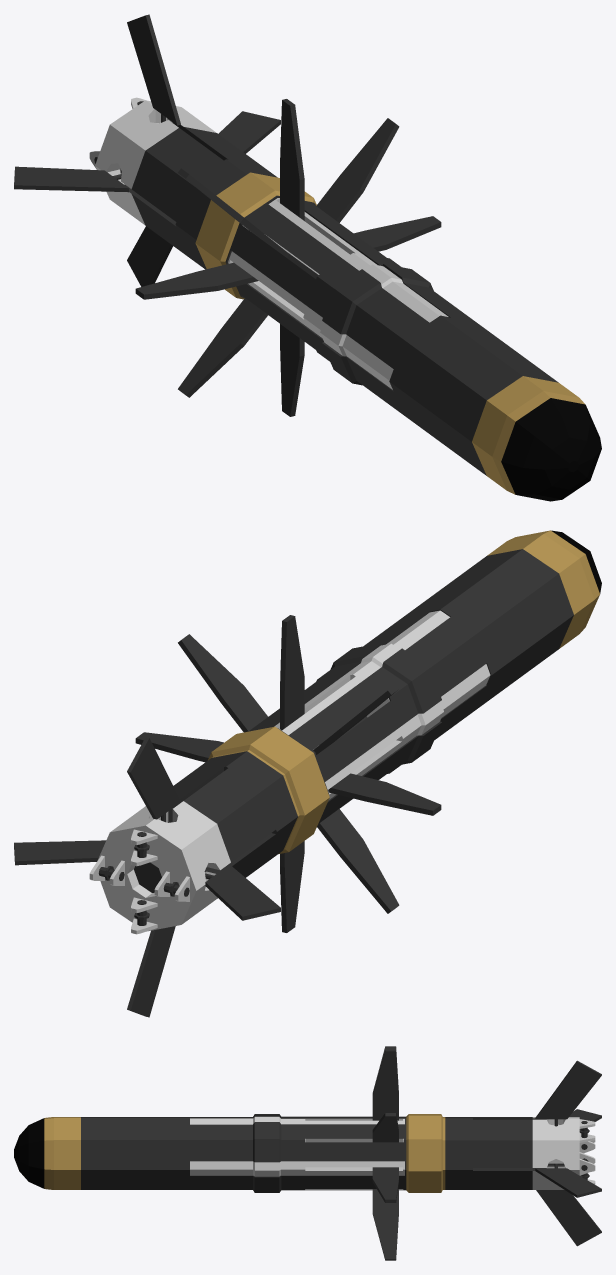
Rendered from rocket-missile-named-nodes.glb.
3 renders of one model, top to bottom at view 1: azimuth 30°, elevation 25°; view 2: azimuth 150°, elevation 25°; view 3: azimuth 270°, elevation 25°, orthographic. The views are drawn at different scales.
Visible parts, largest first — view 1: Object_5, Object_4, Object_2, Object_3; view 2: Object_5, Object_4, Object_2; view 3: Object_5, Object_4, Object_2, Object_3.
Boxes of the visible parts, bbox=[...] form: Object_5: bbox=[14, 14, 558, 475]; Object_4: bbox=[89, 97, 448, 389]; Object_2: bbox=[195, 172, 585, 494]; Object_3: bbox=[501, 398, 601, 501]; Object_5: bbox=[14, 549, 573, 1017]; Object_4: bbox=[89, 610, 490, 934]; Object_2: bbox=[208, 530, 599, 853]; Object_5: bbox=[81, 1046, 601, 1260]; Object_4: bbox=[190, 1116, 595, 1189]; Object_2: bbox=[44, 1114, 445, 1192]; Object_3: bbox=[14, 1118, 44, 1188].
Bounding box in the file's own units: 0.4385 × 0.4385 × 1.14.
